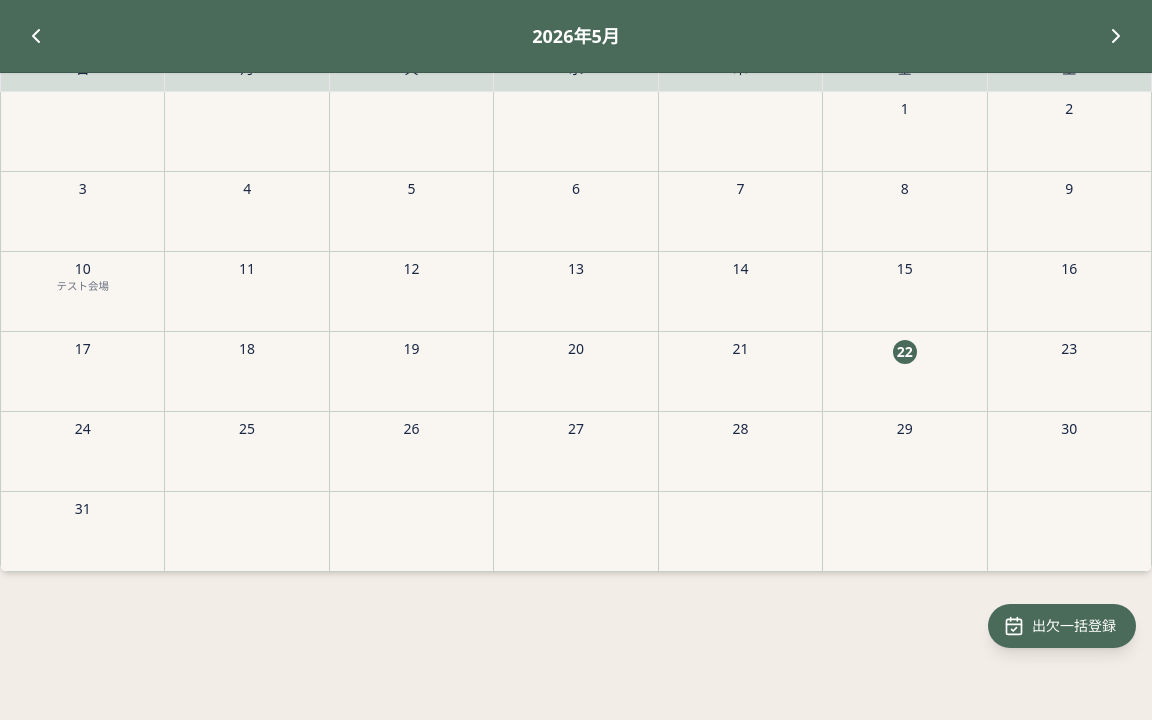
Test: セッション詳細ポップアップの出欠導線（AC-1/AC-11/AC-12） › 過去日はポップアップに「出欠登録」を出さず「試合結果」を出す（AC-11）
The width and height of the screenshot is (1152, 720).
Click the text "10". click: (83, 292)
box: [0,252,165,332]
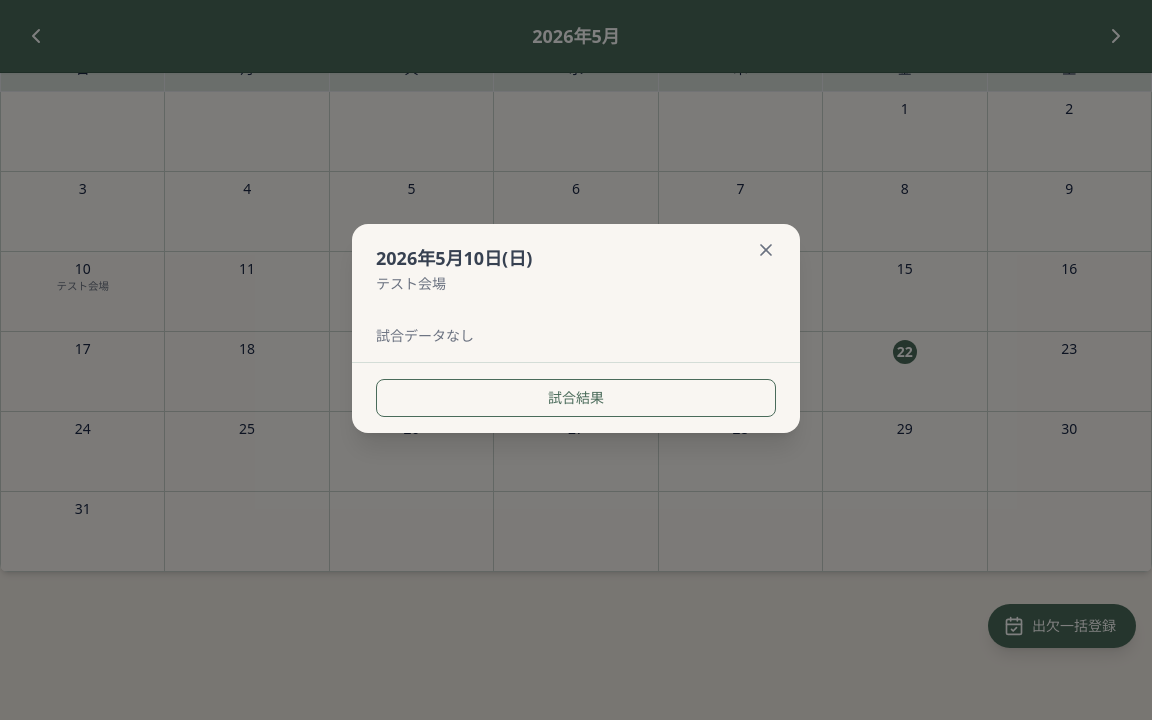
Check: the button "試合結果" is shown, box [376,378,776,416]
